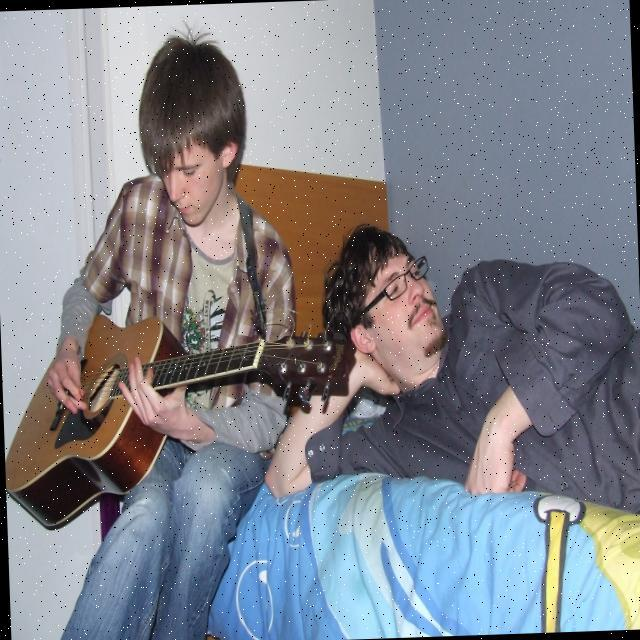acousticguitar: (6, 316, 343, 527)
